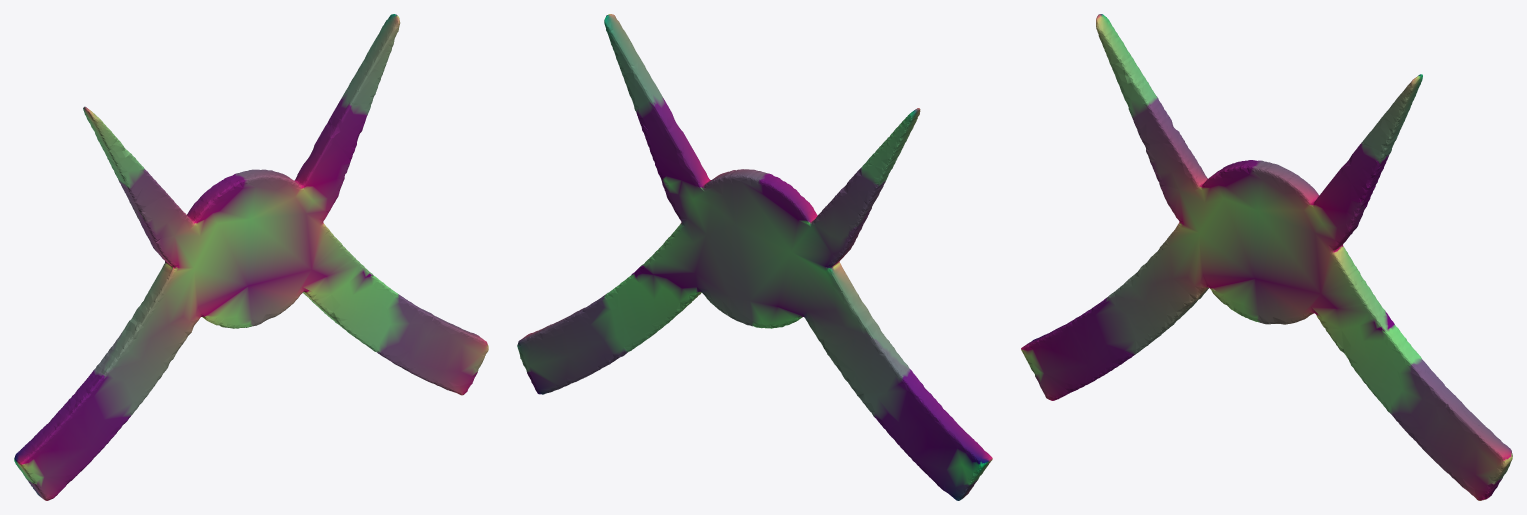
The model's file is scissor-4.off.obj.
3 renders of one model, left to right at view 1: azimuth 30°, elevation 25°; view 2: azimuth 150°, elevation 25°; view 3: azimuth 330°, elevation 25°, orthographic. The views are drawn at different scales.
Bounding box in the file's own units: 1.6 × 1.3 × 0.0602.
